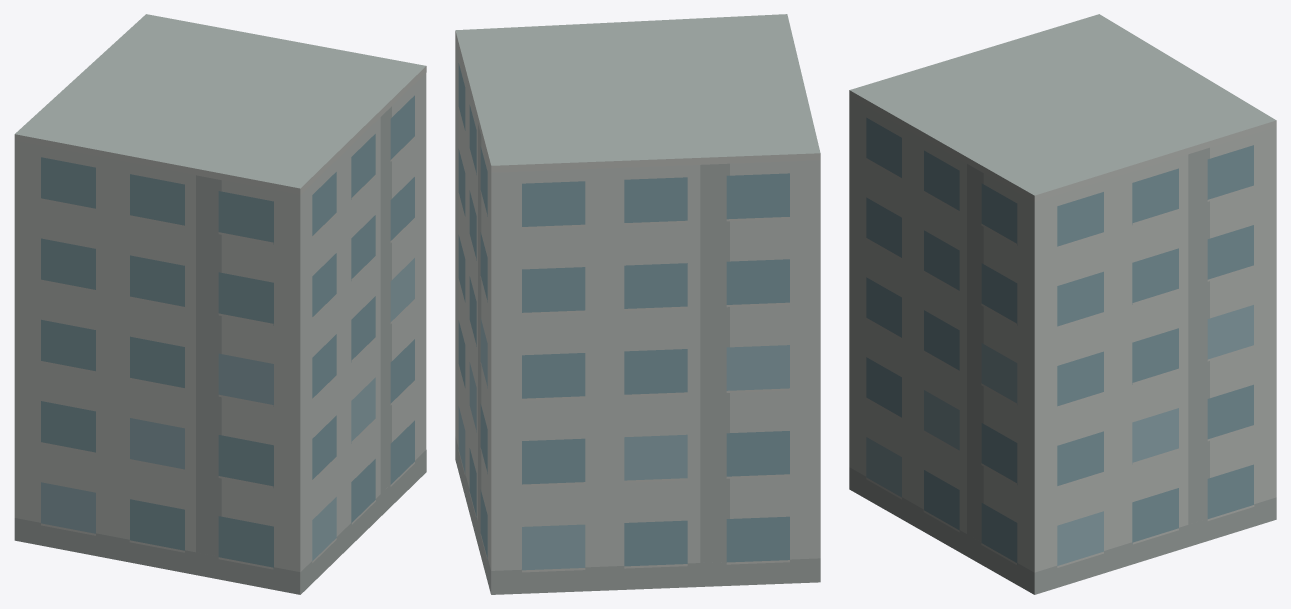
File: survey-upis-32584237.glb
The picture shows the model from 3 angles, left to right: view 1: azimuth 30°, elevation 25°; view 2: azimuth 150°, elevation 25°; view 3: azimuth 270°, elevation 25°; orthographic projection. The views are drawn at different scales.
Parts seen in each view (by area): view 1: survey-upis-32584237.tmp; view 2: survey-upis-32584237.tmp; view 3: survey-upis-32584237.tmp.
Part boxes in pixels (x1=…): survey-upis-32584237.tmp: x1=14, y1=14, x2=426, y2=594; survey-upis-32584237.tmp: x1=455, y1=14, x2=820, y2=594; survey-upis-32584237.tmp: x1=849, y1=14, x2=1276, y2=594.
Size of the model in its own units: 14.5 by 14.85 by 14.41.
